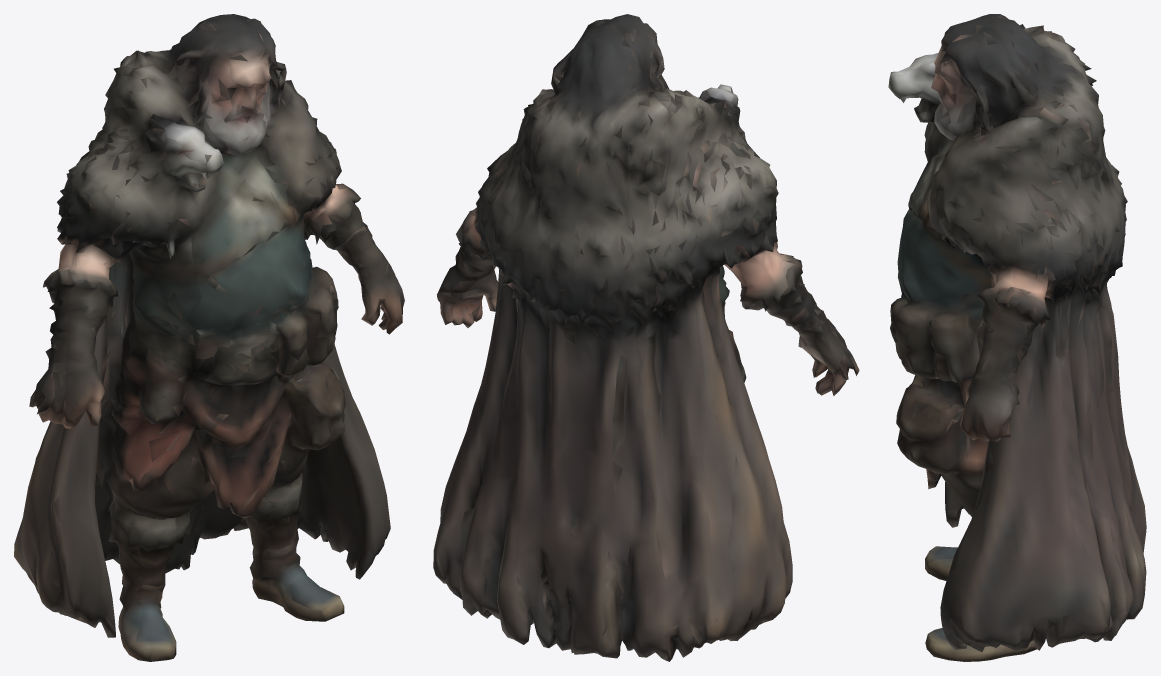
File: Debris_final.glb
3 renders of one model, left to right at view 1: azimuth 30°, elevation 25°; view 2: azimuth 150°, elevation 25°; view 3: azimuth 270°, elevation 25°, orthographic.
Visible parts, largest first — view 1: Mesh1.0; view 2: Mesh1.0; view 3: Mesh1.0.
Part boxes in pixels (x1,y1,x2,y2): Mesh1.0: [14, 14, 404, 661]; Mesh1.0: [433, 14, 859, 661]; Mesh1.0: [888, 14, 1146, 661].
Size of the model in its own units: 1.23 by 1.8 by 0.7022.
Materials: 1 (1 with a texture image).
